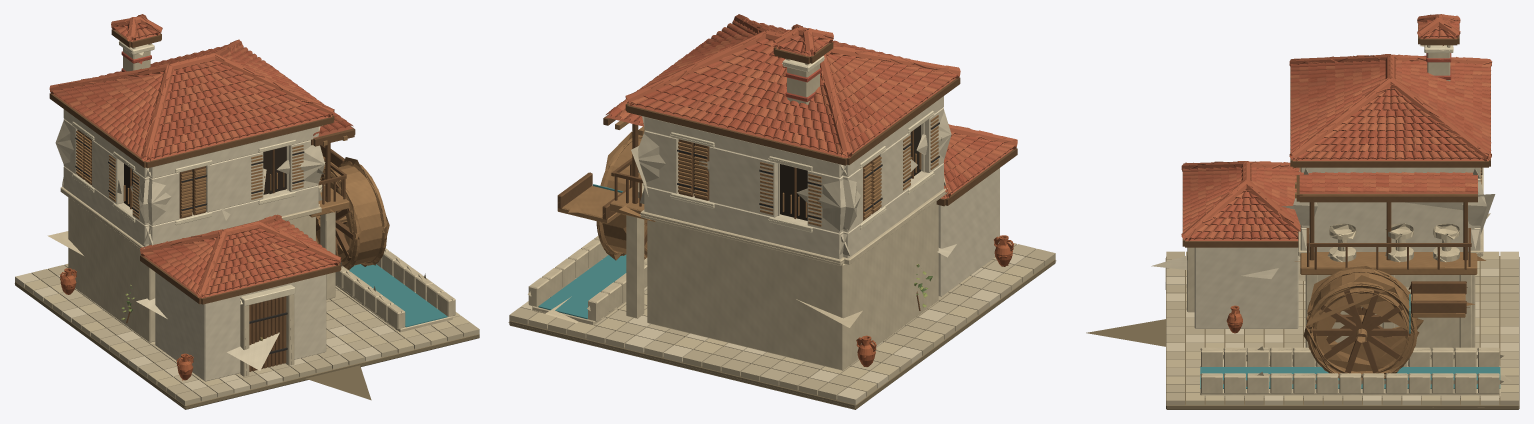
File: muehle.glb
3 renders of one model, left to right at view 1: azimuth 30°, elevation 25°; view 2: azimuth 150°, elevation 25°; view 3: azimuth 270°, elevation 25°, orthographic. The views are drawn at different scales.
Visible parts, largest first — view 1: Limewash.001, Travertine.001, Tile_0.001, Tile_1.001, Oak.001, Oak_edge.001, Paving_1.001, Paving_3.001, Tile_5.001, Paving_0.001, Paving_2.001, Limewash.002 (+18 smaller); view 2: Travertine.001, Limewash.001, Tile_0.001, Tile_1.001, Oak_edge.001, Oak.001, Paving_1.001, Paving_3.001, Paving_0.001, Tile_5.001, Paving_2.001, Limewash.002 (+18 smaller); view 3: Travertine.001, Tile_0.001, Limewash.001, Oak.001, Tile_1.001, Oak_edge.001, Paving_1.001, Tile_5.001, Oak_edge.003, Paving_3.001, Paving_0.001, Paving_2.001 (+17 smaller).
Part boxes in pixels (x1,y1,x2,y2): Limewash.001: [63, 109, 326, 381]; Travertine.001: [60, 43, 455, 376]; Tile_0.001: [60, 24, 345, 292]; Tile_1.001: [49, 14, 346, 297]; Oak.001: [49, 29, 355, 371]; Oak_edge.001: [76, 131, 386, 269]; Paving_1.001: [31, 264, 479, 405]; Paving_3.001: [53, 286, 437, 401]; Tile_5.001: [75, 28, 330, 296]; Paving_0.001: [24, 280, 470, 391]; Paving_2.001: [15, 273, 395, 393]; Limewash.002: [55, 121, 325, 359]; Travertine.001: [528, 58, 947, 370]; Limewash.001: [644, 96, 999, 296]; Tile_0.001: [625, 20, 1003, 192]; Tile_1.001: [625, 14, 1017, 198]; Oak_edge.001: [557, 115, 938, 259]; Oak.001: [557, 42, 1017, 310]; Paving_1.001: [509, 249, 1055, 399]; Paving_3.001: [586, 242, 1036, 385]; Paving_0.001: [528, 257, 1033, 396]; Tile_5.001: [615, 23, 1014, 180]; Paving_2.001: [520, 253, 1025, 405]; Limewash.002: [634, 110, 960, 296]; Travertine.001: [1187, 45, 1500, 398]; Tile_0.001: [1182, 21, 1490, 239]; Limewash.001: [1194, 167, 1480, 328]; Oak.001: [1182, 24, 1490, 373]; Tile_1.001: [1181, 14, 1491, 241]; Oak_edge.001: [1295, 167, 1481, 378]; Paving_1.001: [1166, 251, 1518, 405]; Tile_5.001: [1182, 27, 1490, 239]; Oak_edge.003: [1295, 256, 1485, 379]; Paving_3.001: [1166, 256, 1518, 405]; Paving_0.001: [1166, 251, 1518, 405]; Paving_2.001: [1166, 251, 1518, 405].
Bounding box in the file's own units: 9.21 × 8.24 × 11.3.
26 materials, 7 textured.
